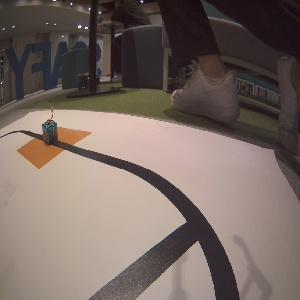box: (43, 118, 61, 145)
